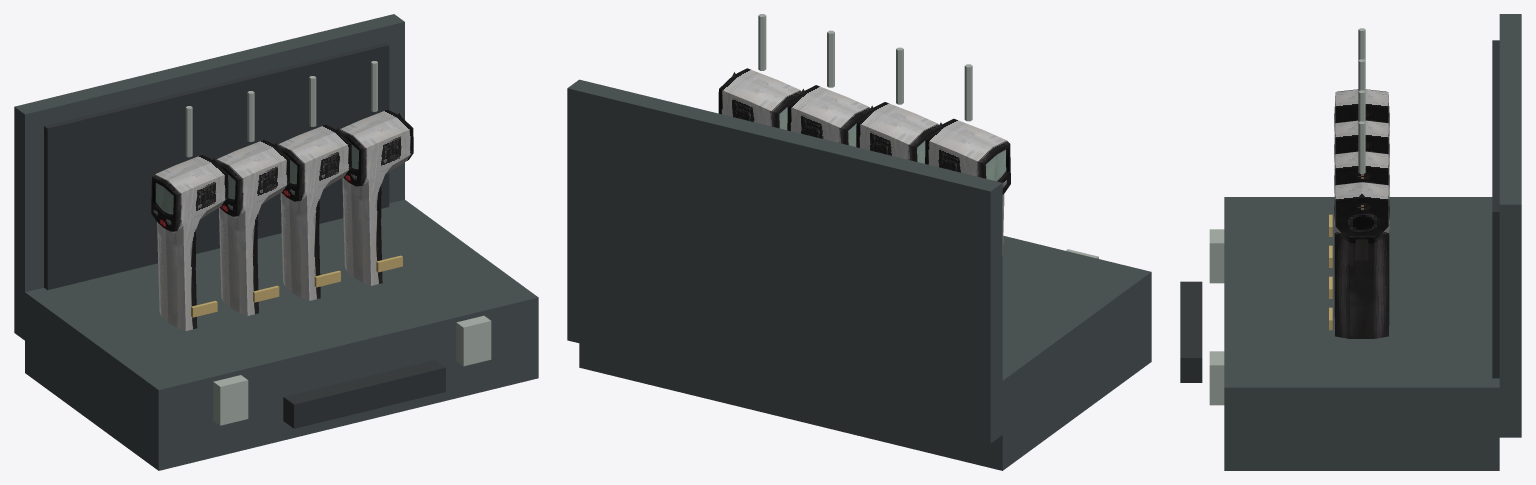
Rendered from blender_thermal_beacon_2.glb.
3 renders of one model, left to right at view 1: azimuth 30°, elevation 25°; view 2: azimuth 150°, elevation 25°; view 3: azimuth 270°, elevation 25°, orthographic. The views are drawn at different scales.
Visible parts, largest first — view 1: blender_thermal_beacon_2; view 2: blender_thermal_beacon_2; view 3: blender_thermal_beacon_2.
Boxes of the visible parts, x1,y1,x2,y2 form: blender_thermal_beacon_2: (14,14,538,470); blender_thermal_beacon_2: (567,14,1151,470); blender_thermal_beacon_2: (1180,14,1521,470).
Bounding box in the file's own units: 0.246 × 0.18 × 0.186.
1 material, 1 textured.
